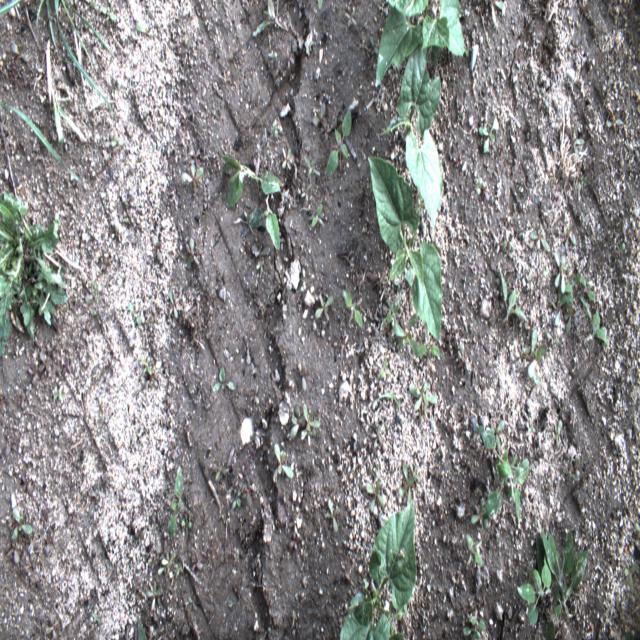crop: (366, 150, 444, 335), (375, 44, 446, 220), (335, 497, 416, 636), (372, 3, 469, 92)
weed: (0, 0, 114, 120), (0, 191, 67, 362), (510, 527, 591, 627), (0, 91, 83, 183), (468, 420, 530, 526), (35, 41, 88, 150), (217, 144, 284, 212), (555, 113, 591, 198), (162, 463, 196, 544), (237, 197, 284, 254), (510, 328, 551, 384), (284, 401, 326, 455), (326, 107, 352, 184), (383, 299, 417, 356), (498, 261, 526, 324), (76, 279, 104, 340), (448, 318, 478, 374), (247, 5, 292, 41), (470, 109, 501, 161), (340, 272, 365, 332), (176, 144, 205, 193), (550, 285, 578, 333), (23, 342, 52, 388), (319, 495, 344, 546), (406, 378, 434, 422), (556, 447, 586, 488), (153, 548, 185, 586), (0, 395, 19, 458), (269, 438, 296, 482), (416, 324, 444, 366), (8, 499, 34, 544), (555, 26, 588, 61), (211, 355, 238, 396), (164, 276, 189, 320), (308, 97, 332, 142), (85, 478, 112, 518), (463, 530, 488, 572), (142, 578, 169, 616), (119, 295, 154, 324), (102, 120, 128, 159), (366, 472, 388, 518), (224, 477, 252, 513), (181, 229, 202, 277), (588, 309, 612, 351), (310, 288, 335, 328), (462, 604, 491, 638), (396, 459, 422, 496), (502, 404, 524, 447), (138, 342, 160, 384), (369, 358, 398, 389), (603, 89, 626, 128), (190, 541, 212, 581), (286, 502, 303, 553), (307, 191, 328, 232), (575, 266, 595, 309), (292, 352, 315, 389), (14, 465, 39, 499), (532, 72, 554, 110), (525, 226, 553, 255), (301, 146, 321, 186), (559, 214, 582, 248), (5, 34, 29, 66), (375, 383, 400, 413), (492, 232, 518, 260), (246, 238, 268, 271), (368, 420, 391, 451), (264, 48, 283, 85), (544, 416, 564, 451), (539, 468, 560, 501), (4, 538, 24, 572), (86, 1, 118, 22), (214, 460, 235, 491), (474, 164, 489, 205), (278, 143, 295, 178), (282, 38, 298, 72), (58, 351, 76, 380), (294, 177, 313, 204), (622, 557, 637, 591), (51, 367, 64, 405), (134, 15, 156, 37), (554, 253, 566, 292), (340, 9, 362, 30), (266, 114, 285, 138), (526, 408, 538, 441), (363, 33, 377, 61), (616, 235, 630, 263), (312, 1, 331, 21), (150, 229, 163, 258), (136, 614, 151, 638), (576, 0, 593, 21), (90, 606, 104, 630), (45, 616, 59, 639), (489, 2, 508, 18), (629, 516, 638, 544)
